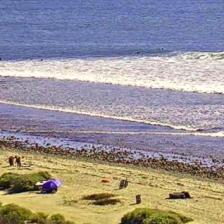surfer: (134, 52, 141, 54), (158, 48, 164, 50), (40, 59, 43, 61), (1, 58, 2, 62)
